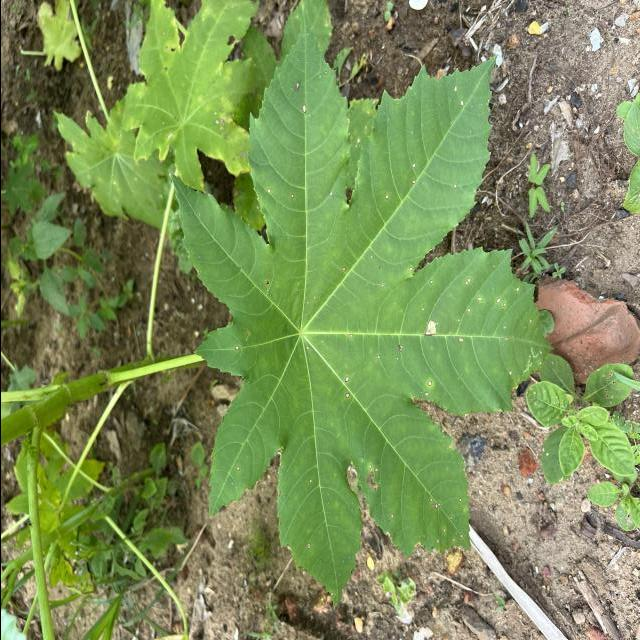Ricinus communis linn: (162, 0, 555, 613)
